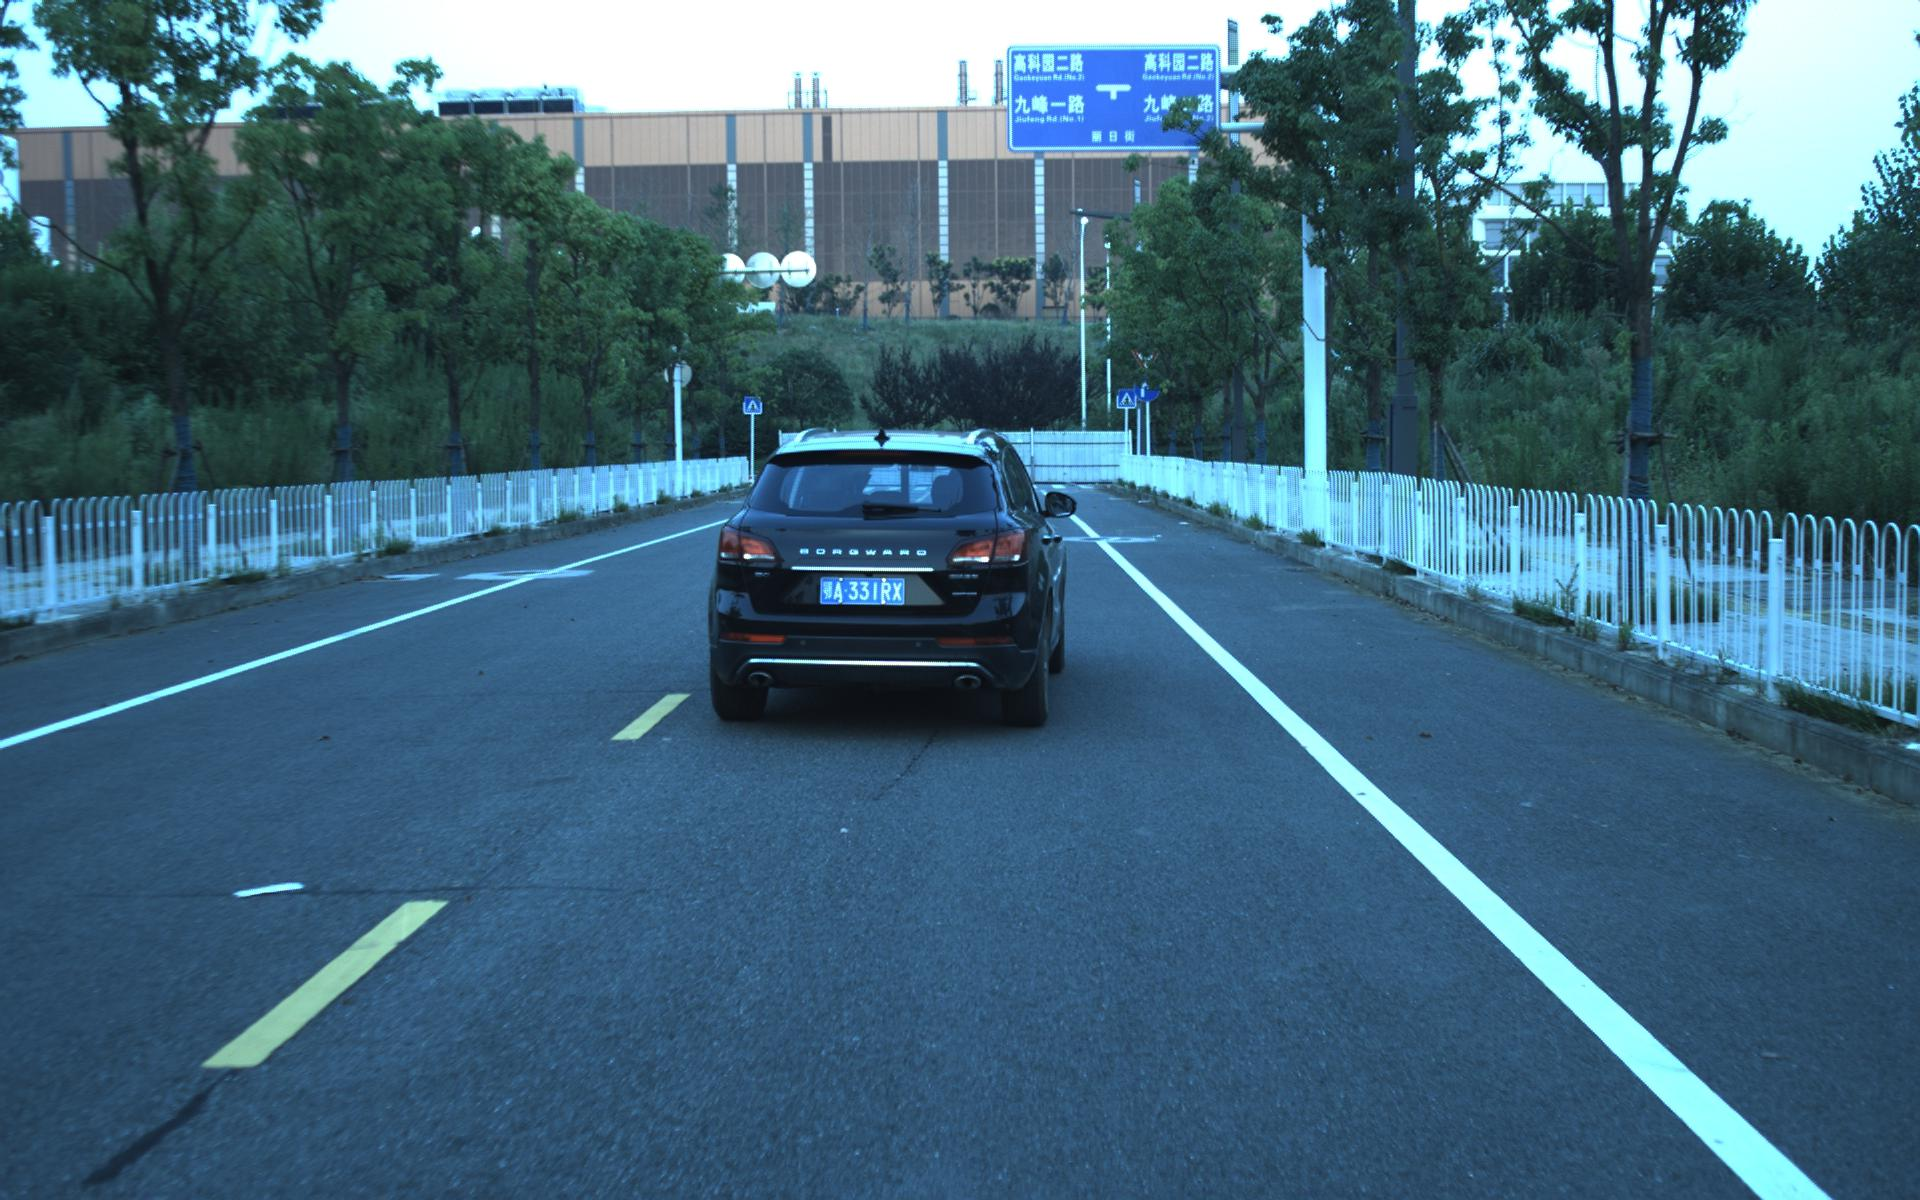Car: (698, 422, 1064, 733)
